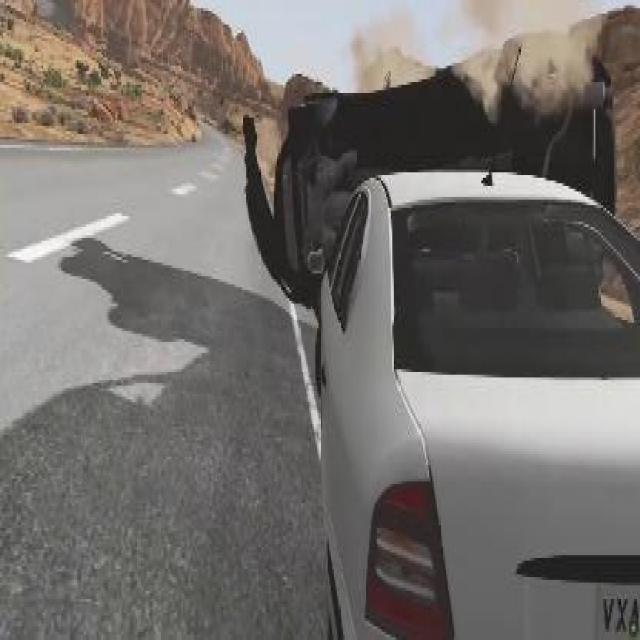accident: (238, 23, 639, 639)
